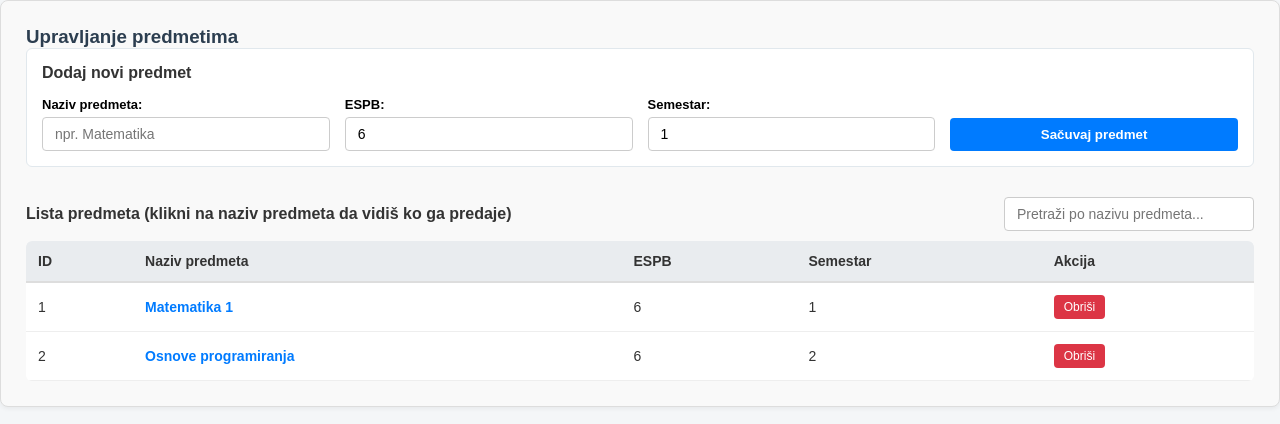
Test: AdminPredmeti Component - Comprehensive Tests › omogućava pretragu predmeta i prikazuje poruku ako nema pronađenih predmeta
Expected: the text "Matematika 1" is shown, [133,282,622,332]
Note: Pretraga postojećeg
Type "Mat" into the field with placeholder "Pretraži po nazivu predmeta...". click: (1129, 214)
box: [1004,197,1254,231]
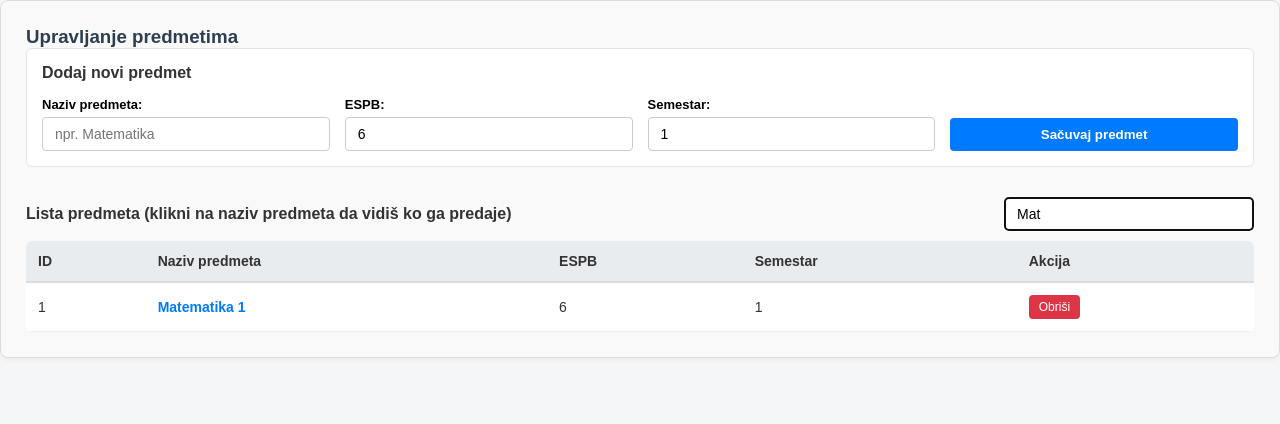
Expected: the text "Matematika 1" is shown, [146,282,547,332]
Now the text "Osnove programiranja" is gone
Note: Pretraga nepostojećeg (prazna tabela / "Nema pronađenih predmeta")
Replace the text in the field with placeholder "Pretraži po nazivu predmeta..." with "NepostojeciPredmet". click: (1129, 214)
box: [1004,197,1254,231]
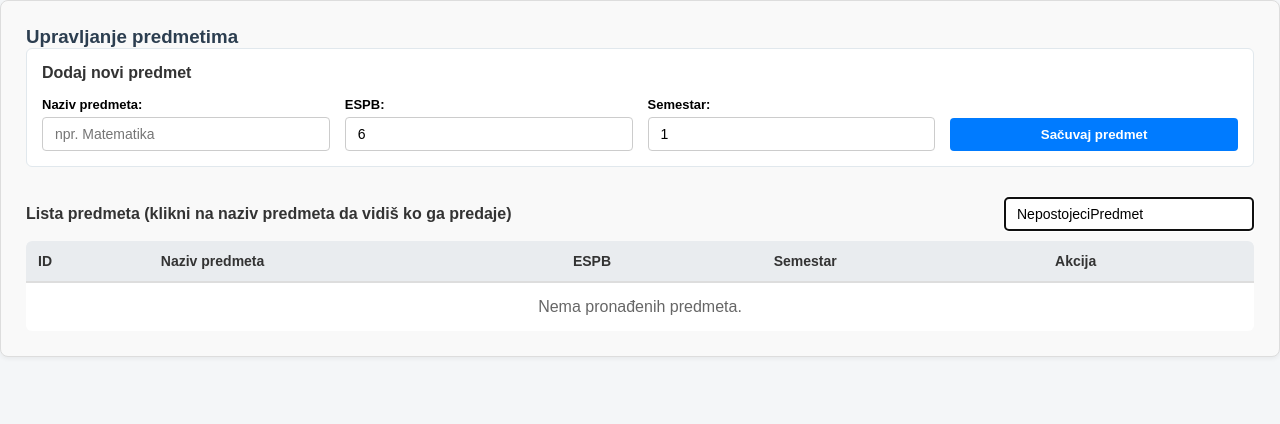
Now the text "Nema pronađenih predmeta." is shown, box [26,282,1254,331]
Note: Brisanje pretrage vraća celu listu (prazan string u pretrazi okida ucitajPredmete)
Clear the field with placeholder "Pretraži po nazivu predmeta...". click: (1129, 214)
box: [1004,197,1254,231]
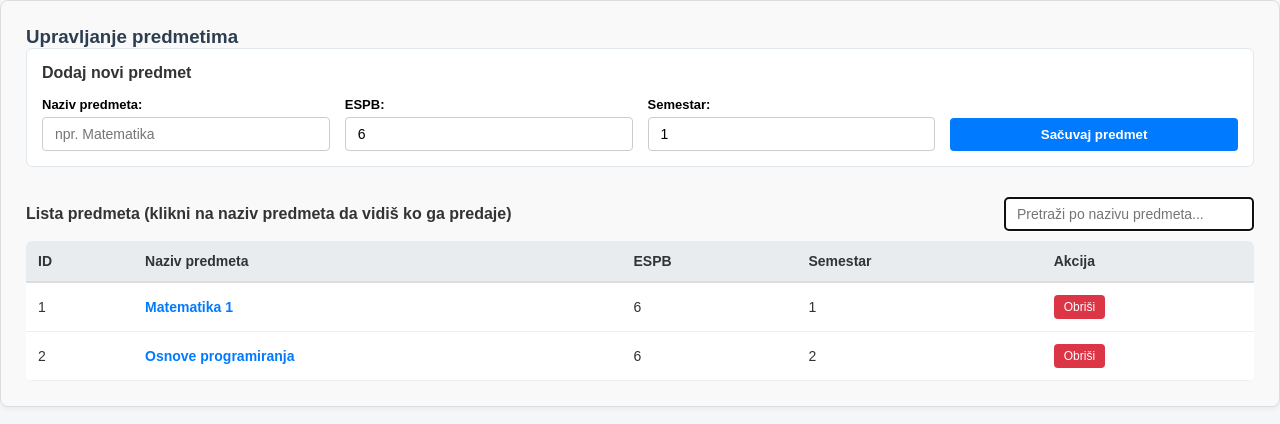
Now the text "Matematika 1" is shown, box [133,282,622,332]
Now the text "Osnove programiranja" is shown, box [133,332,622,380]
